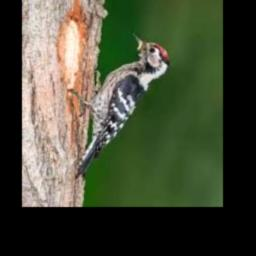Woodpecker: (68, 33, 170, 177)
